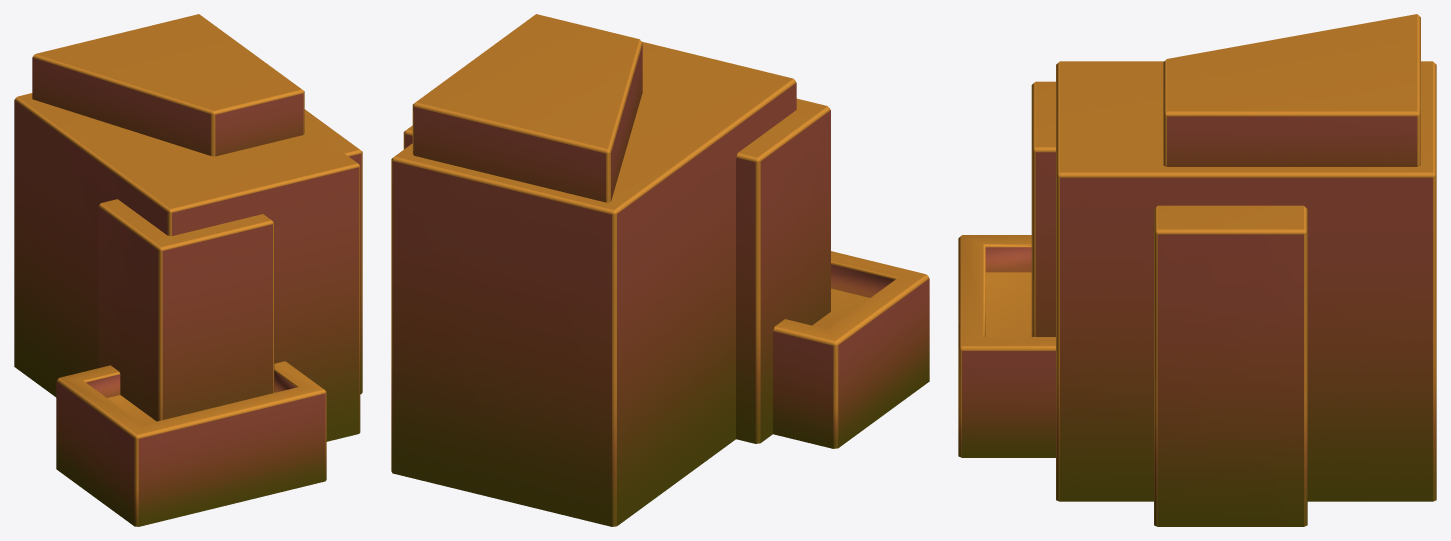
Rendered from prop_BuildingSmall02.fbx.
3 views of the same model, side by side, from view 1: azimuth 30°, elevation 25°; view 2: azimuth 150°, elevation 25°; view 3: azimuth 270°, elevation 25° (orthographic). The views are drawn at different scales.
Visible parts, largest first — view 1: prop_BuildingSmall02; view 2: prop_BuildingSmall02; view 3: prop_BuildingSmall02.
Boxes of the visible parts, x1,y1,x2,y2 form: prop_BuildingSmall02: (14, 14, 362, 526); prop_BuildingSmall02: (391, 14, 929, 526); prop_BuildingSmall02: (958, 14, 1436, 526).
Bounding box in the file's own units: 1125 × 1094 × 1242.
